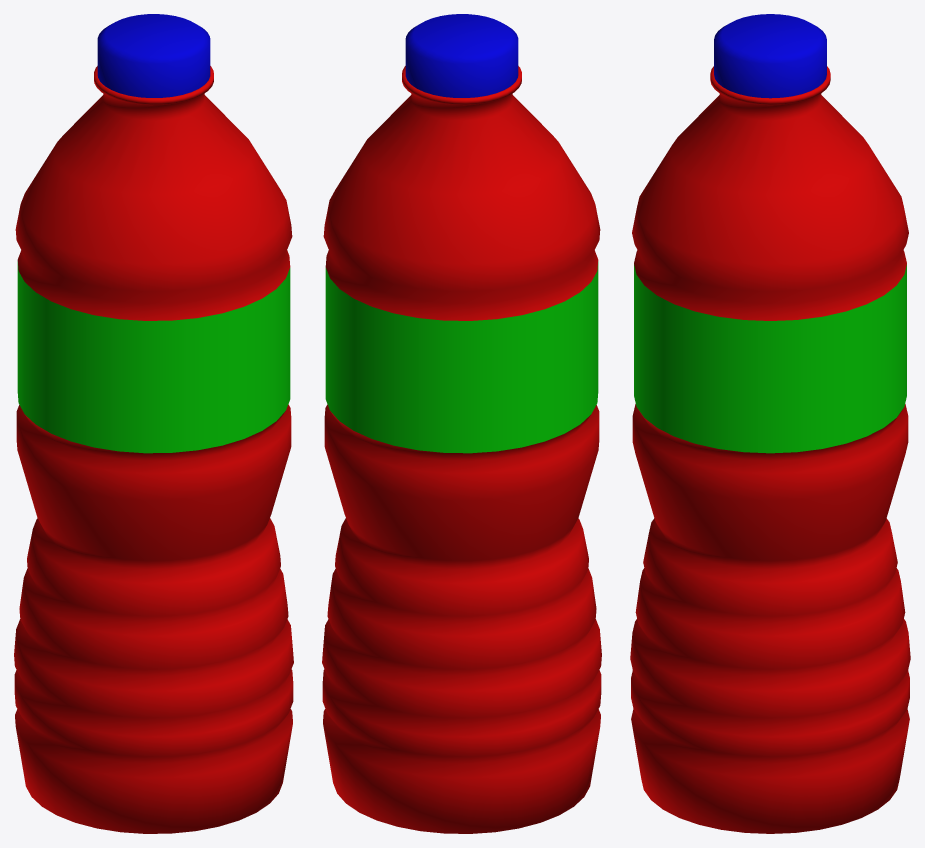
File: water.fbx
The picture shows the model from 3 angles, left to right: view 1: azimuth 30°, elevation 25°; view 2: azimuth 150°, elevation 25°; view 3: azimuth 270°, elevation 25°; orthographic projection.
Visible parts, largest first — view 1: Cylinder.001; view 2: Cylinder.001; view 3: Cylinder.001.
Part boxes in pixels (bbox=[...]): Cylinder.001: bbox=[14, 14, 293, 833]; Cylinder.001: bbox=[322, 14, 601, 833]; Cylinder.001: bbox=[630, 14, 910, 833].
Size of the model in its own units: 134 by 398 by 134.
